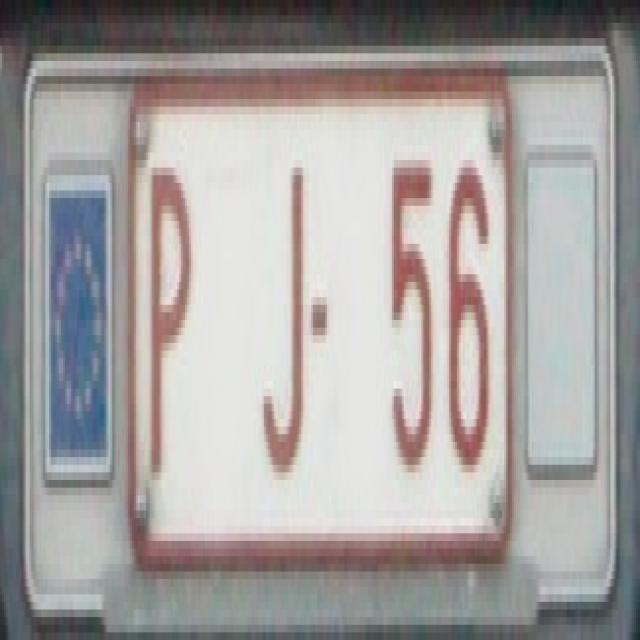licenseplate: (7, 18, 631, 638)
